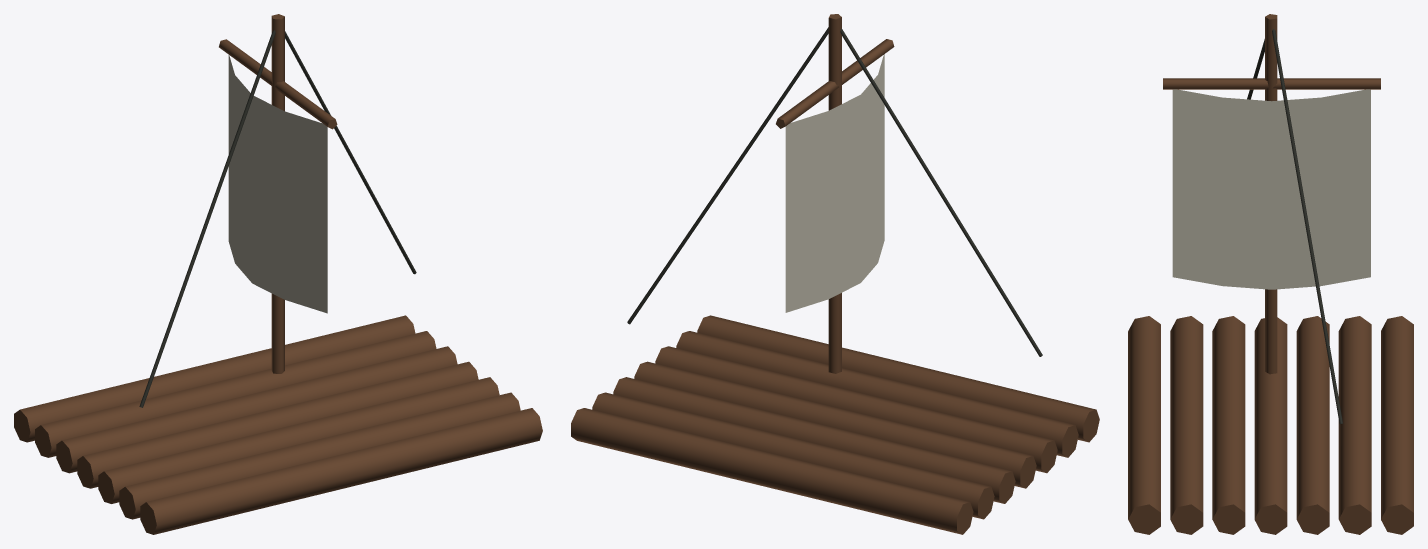
File: custom-vehicle-sal.glb
3 views of the same model, side by side, from view 1: azimuth 30°, elevation 25°; view 2: azimuth 150°, elevation 25°; view 3: azimuth 270°, elevation 25° (orthographic).
Visible parts, largest first — view 1: custom-vehicle-sal; view 2: custom-vehicle-sal; view 3: custom-vehicle-sal.
Boxes of the visible parts, x1,y1,x2,y2 form: custom-vehicle-sal: (14, 14, 542, 534); custom-vehicle-sal: (571, 14, 1099, 534); custom-vehicle-sal: (1128, 14, 1413, 534).
Bounding box in the file's own units: 1 × 1.05 × 0.6406.
